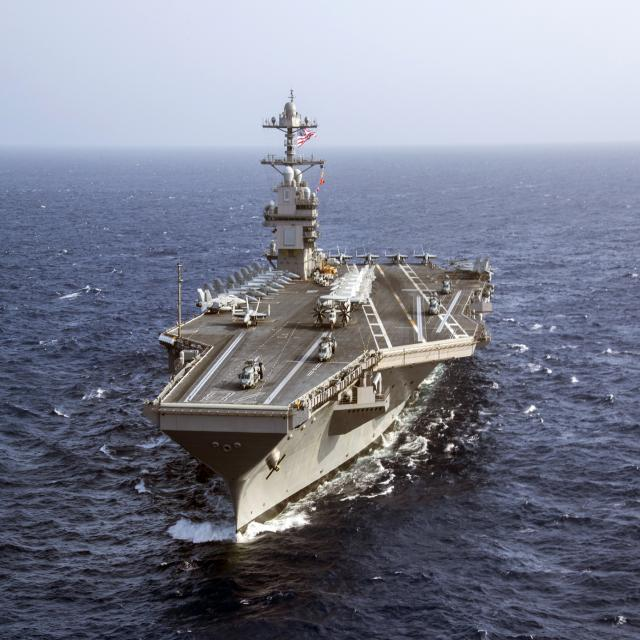navalvessels: (136, 96, 496, 539)
